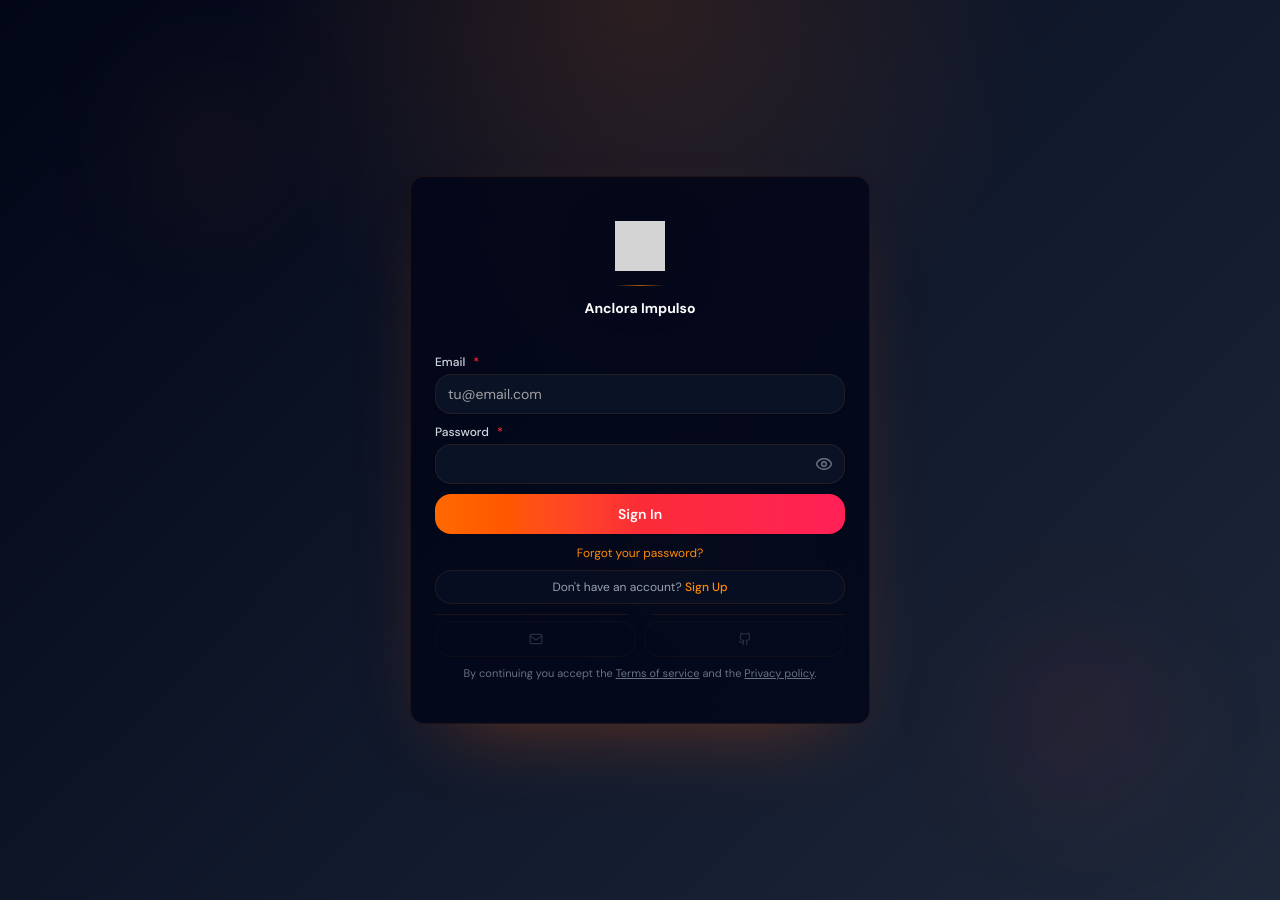
Test: LoginPage › should toggle password visibility
Click the button named "show password": x=824, y=464 [815, 455, 833, 473]
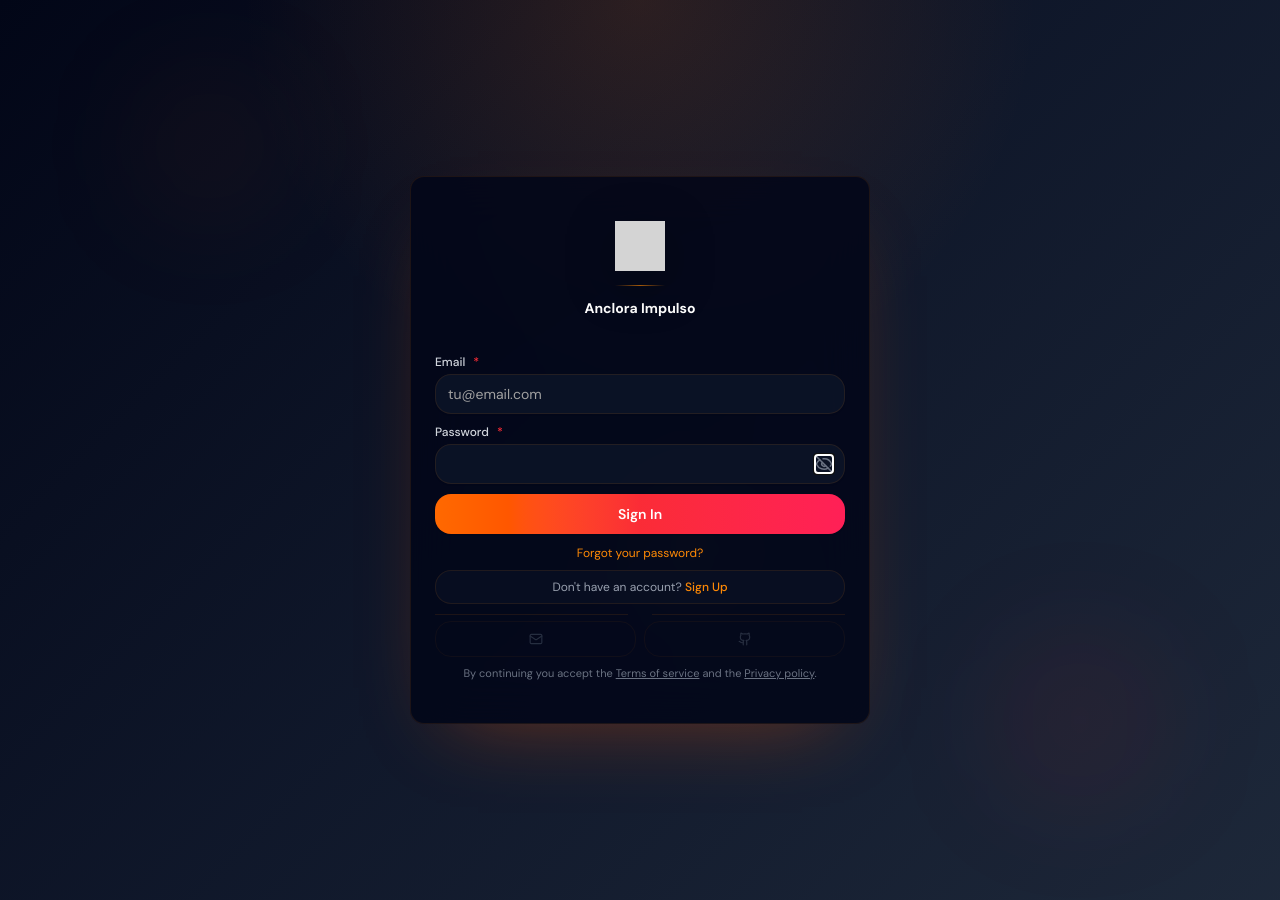
Expected: the button named "hide password" is shown, [815, 455, 833, 473]
